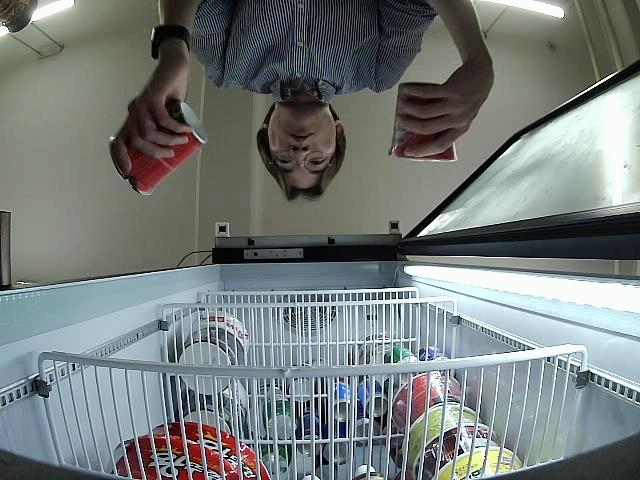00_hand: (107, 55, 188, 179), (394, 68, 494, 160)
02_shinRamen_S: (109, 103, 205, 194), (387, 82, 458, 164)
